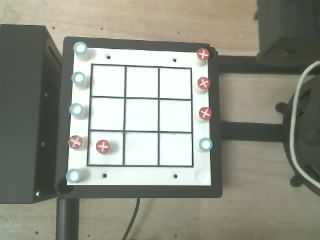blue circle: (71, 72, 86, 86), (199, 138, 213, 152), (69, 103, 83, 116), (66, 169, 80, 182), (73, 42, 87, 54)
board: (67, 42, 212, 185)
cells: (89, 132, 122, 164), (125, 133, 157, 165), (90, 98, 123, 129), (126, 99, 157, 130), (160, 134, 191, 165), (160, 100, 191, 131), (92, 66, 124, 96), (160, 68, 190, 98), (127, 67, 157, 97)
grid: (87, 64, 193, 167)
red cross: (68, 135, 82, 148), (96, 140, 110, 153), (196, 48, 209, 60), (199, 107, 212, 119), (198, 77, 210, 88)
